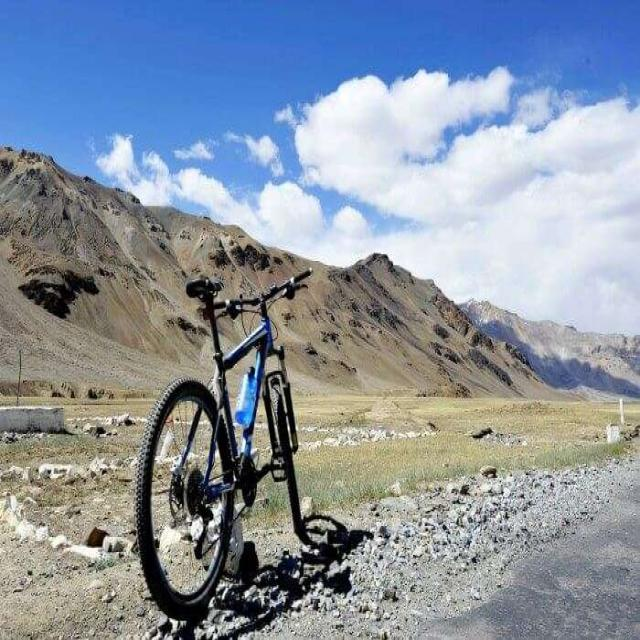bicycle: (135, 269, 341, 619)
